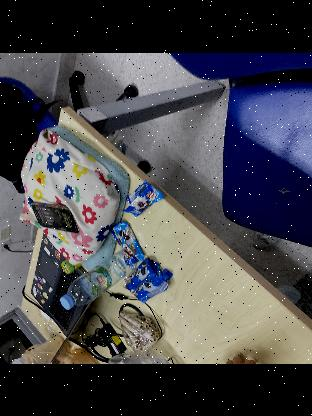Others: (124, 254, 174, 301), (120, 310, 161, 354), (7, 336, 71, 364), (123, 178, 167, 218), (109, 220, 147, 264), (106, 344, 174, 364), (59, 344, 103, 364)
Plastic Bottle: (61, 248, 132, 310)
